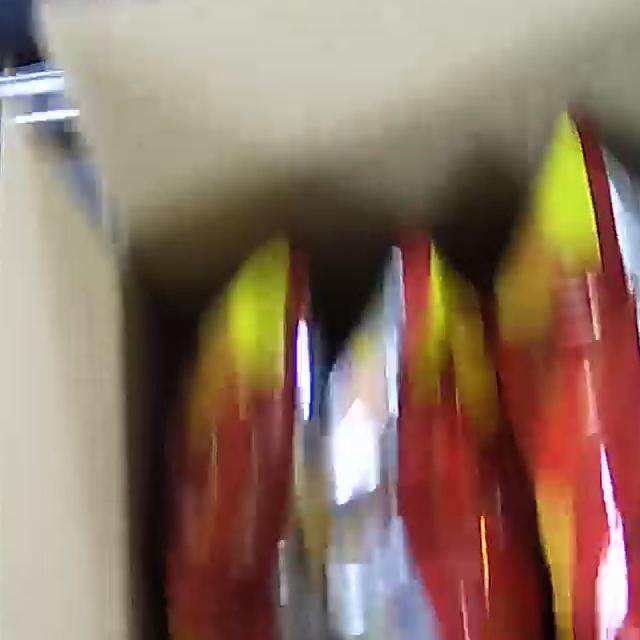masala: (105, 155, 640, 640)
